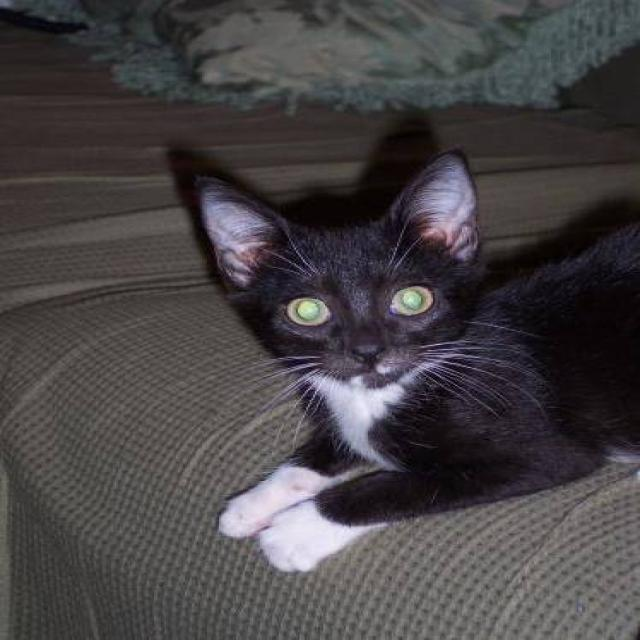cat: (178, 144, 638, 573)
